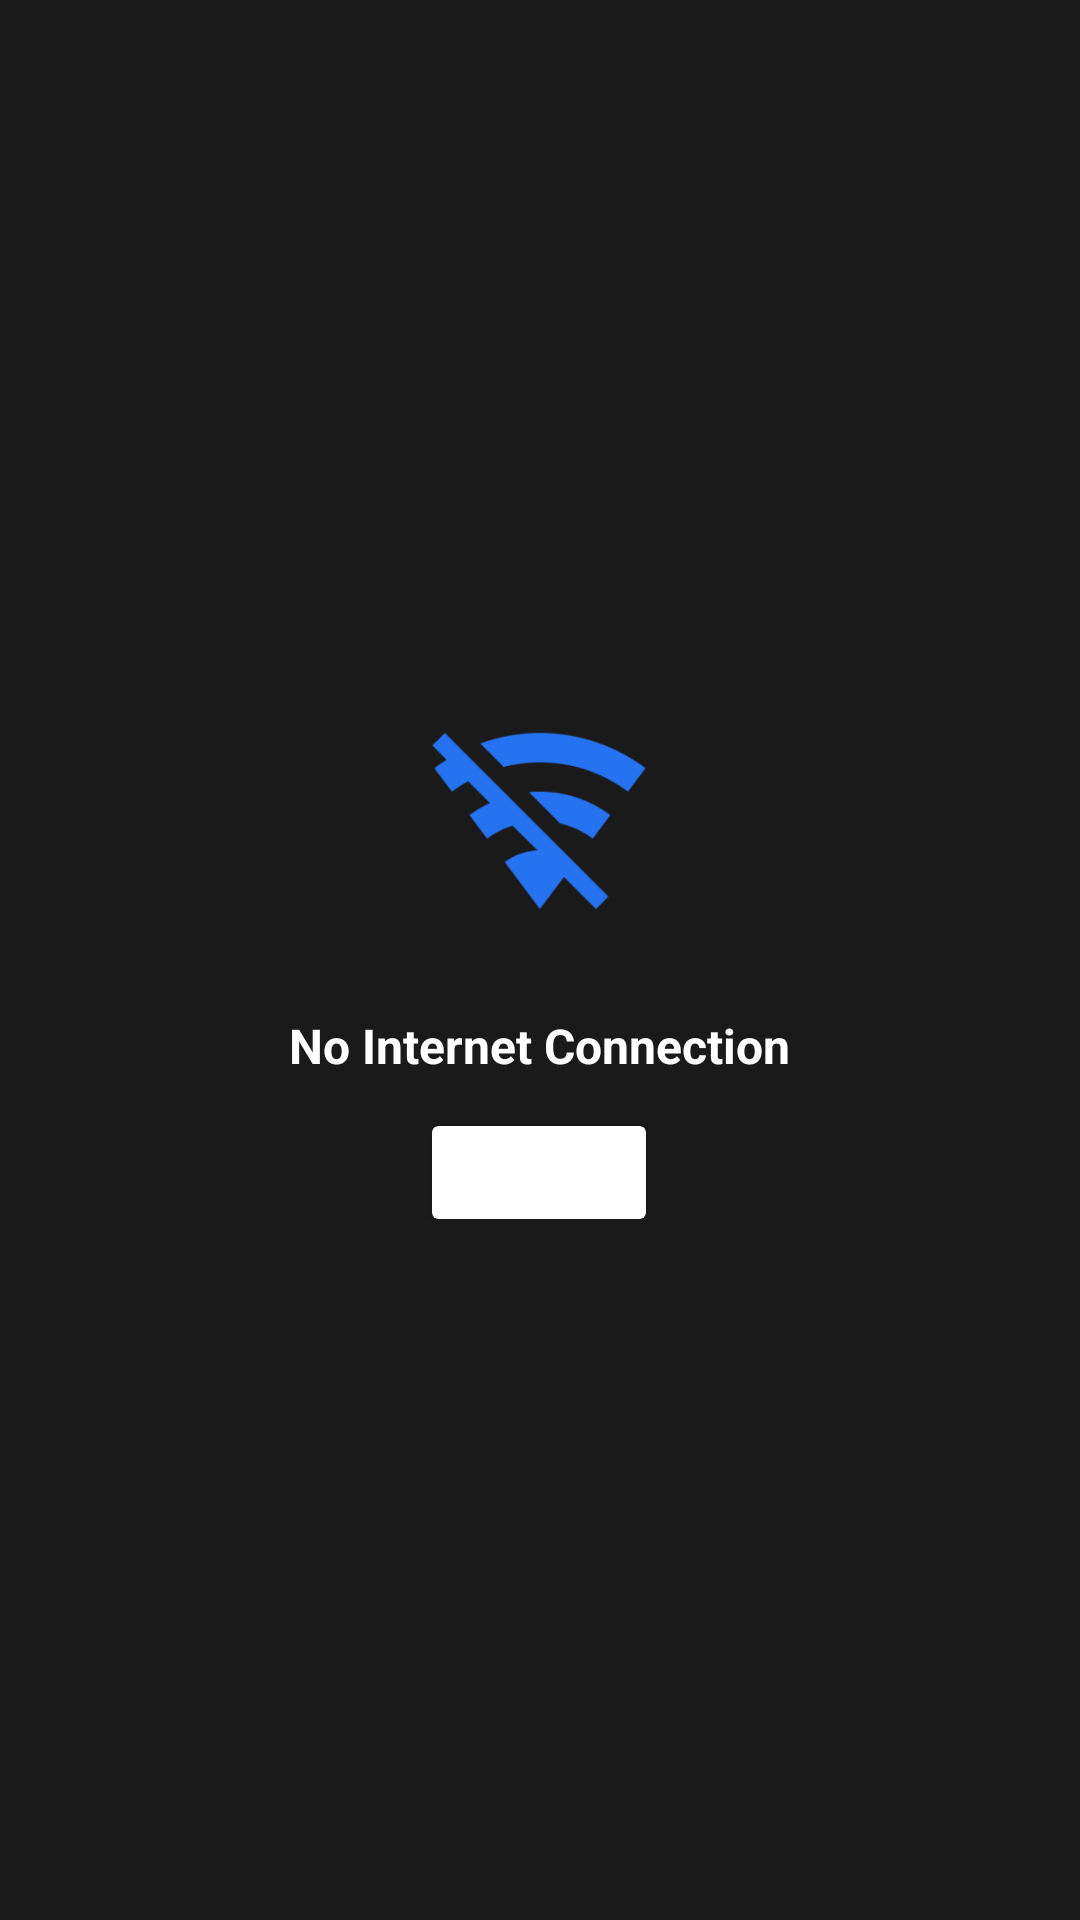

Icons on this 1080w x 1920h Android screen, each with its box as Rect(x1, y1, x2, y2):
wifi off: Rect(432, 732, 646, 909)
